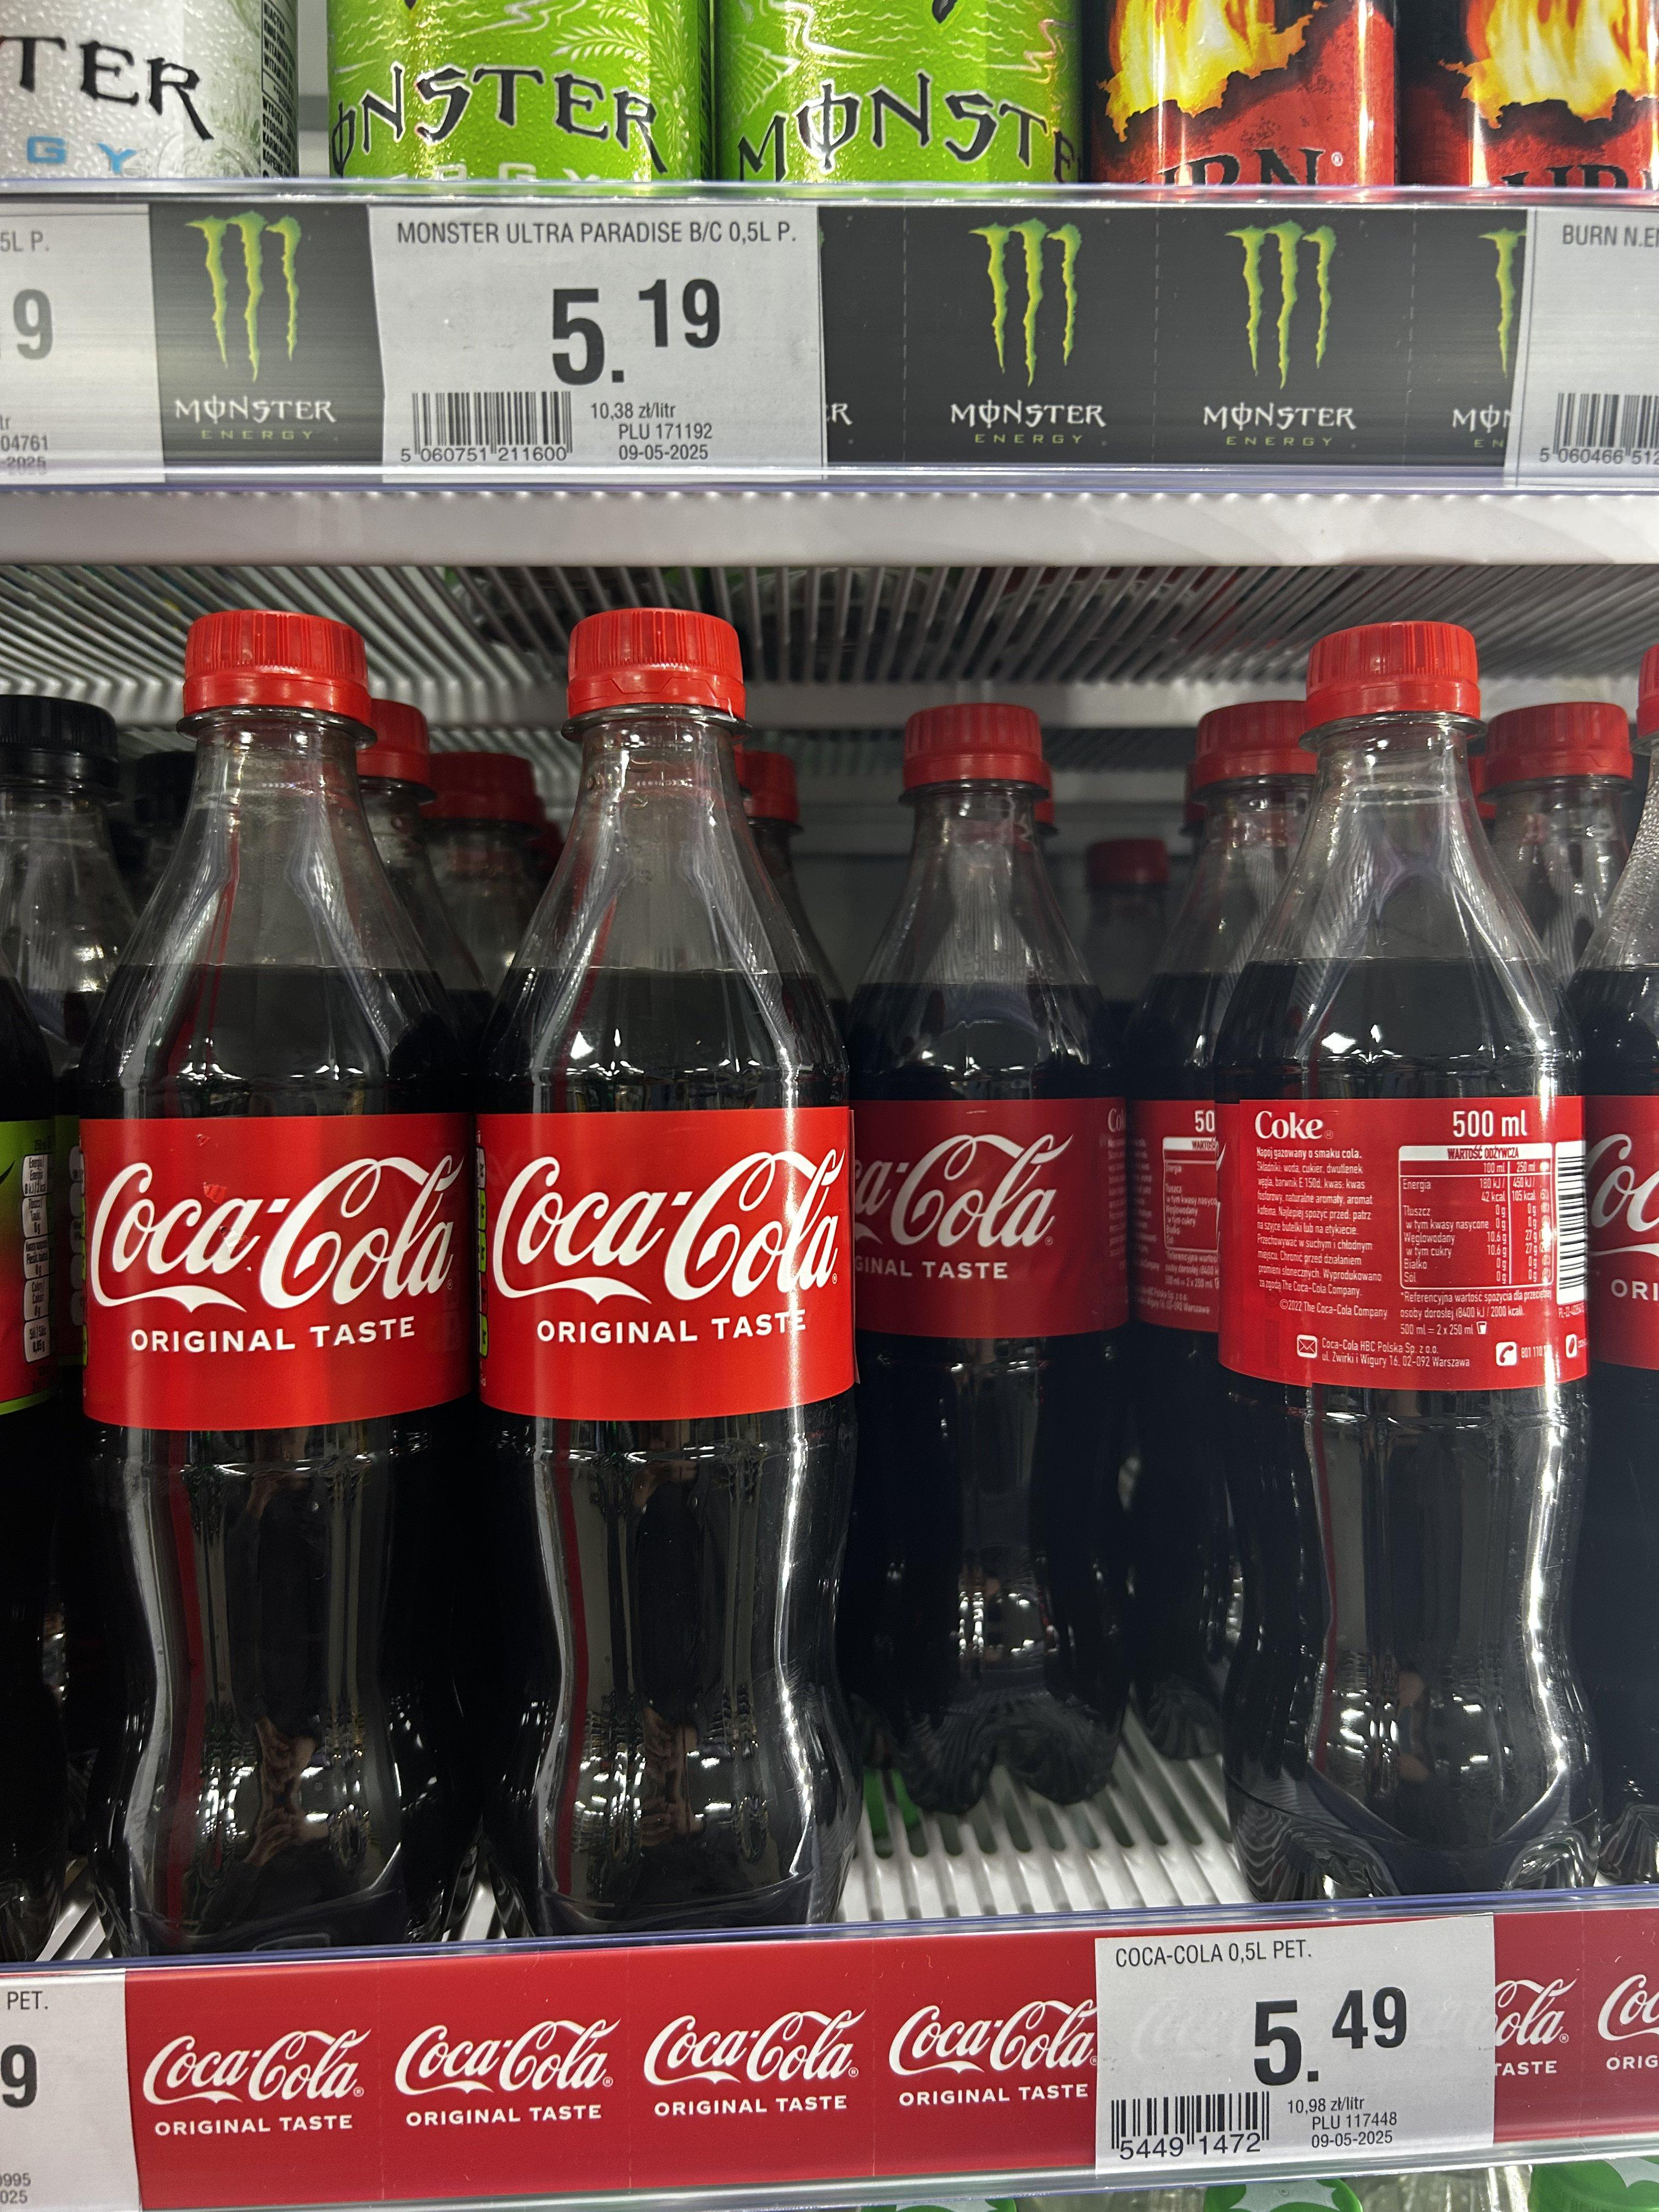Coca Cola: (467, 573, 880, 1926), (91, 596, 486, 1909), (1225, 610, 1565, 1926), (838, 695, 1141, 1817), (1147, 686, 1269, 1730), (1588, 660, 1659, 1900)
